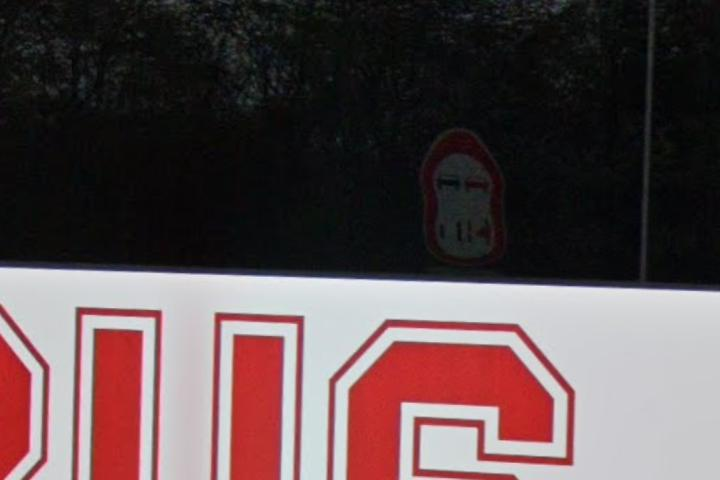traffic_sign: (417, 128, 509, 213), (419, 200, 512, 268)
